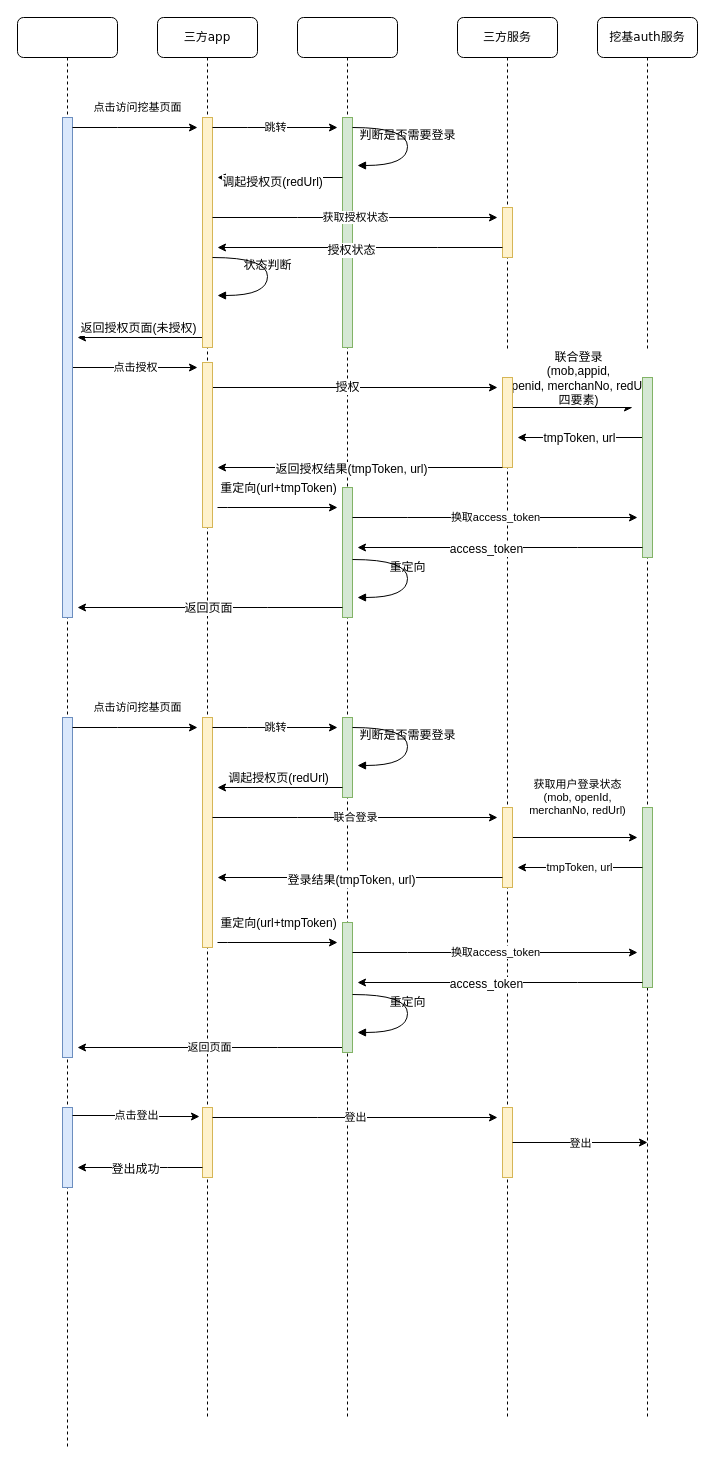
Some shapes in this 715 by 1465 pixel diagram are drawn without their labels. The box of each missing label's shape, as (x1, y1, x2, y2) in pixels:
挖基h5: (296, 16, 398, 1418)
用户: (16, 16, 118, 1448)
